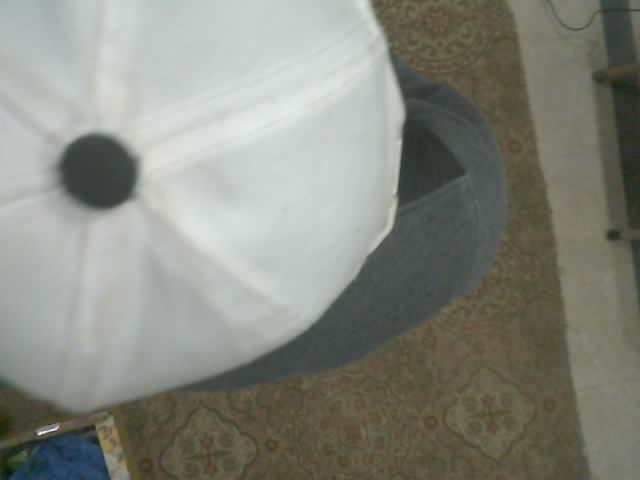cap: (0, 0, 509, 416)
